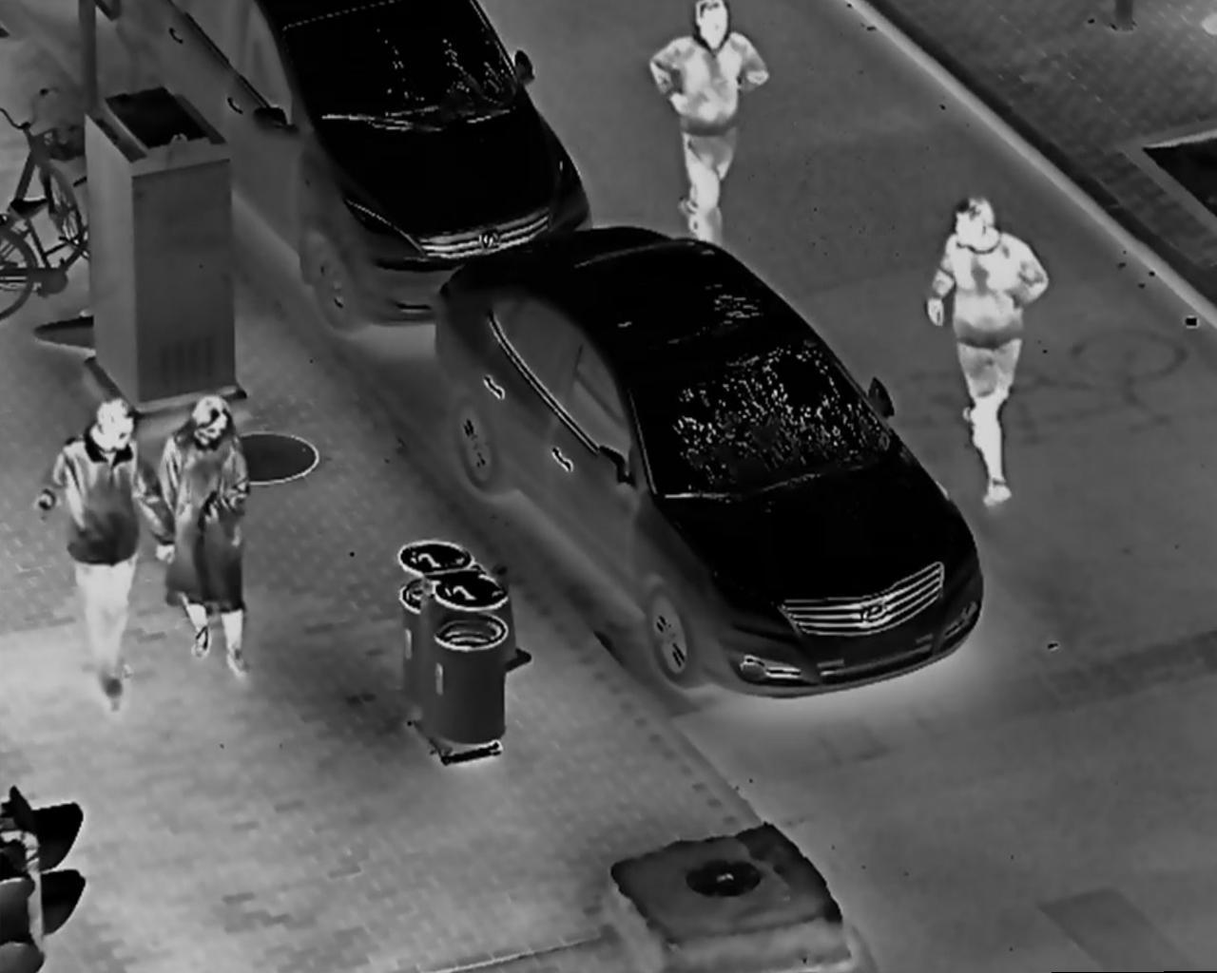person: (35, 398, 174, 714), (919, 194, 1055, 513), (152, 393, 253, 678)
